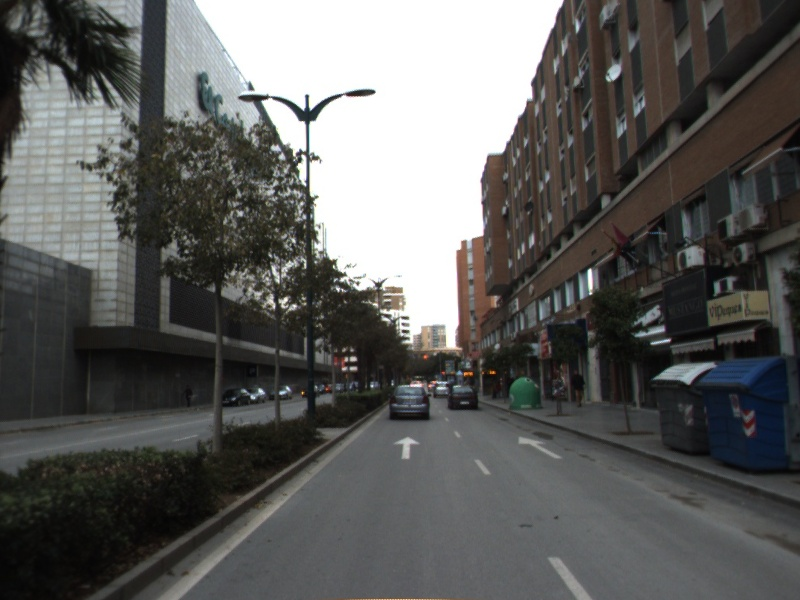STRAIGHT: (516, 435, 564, 460), (391, 434, 423, 461)
